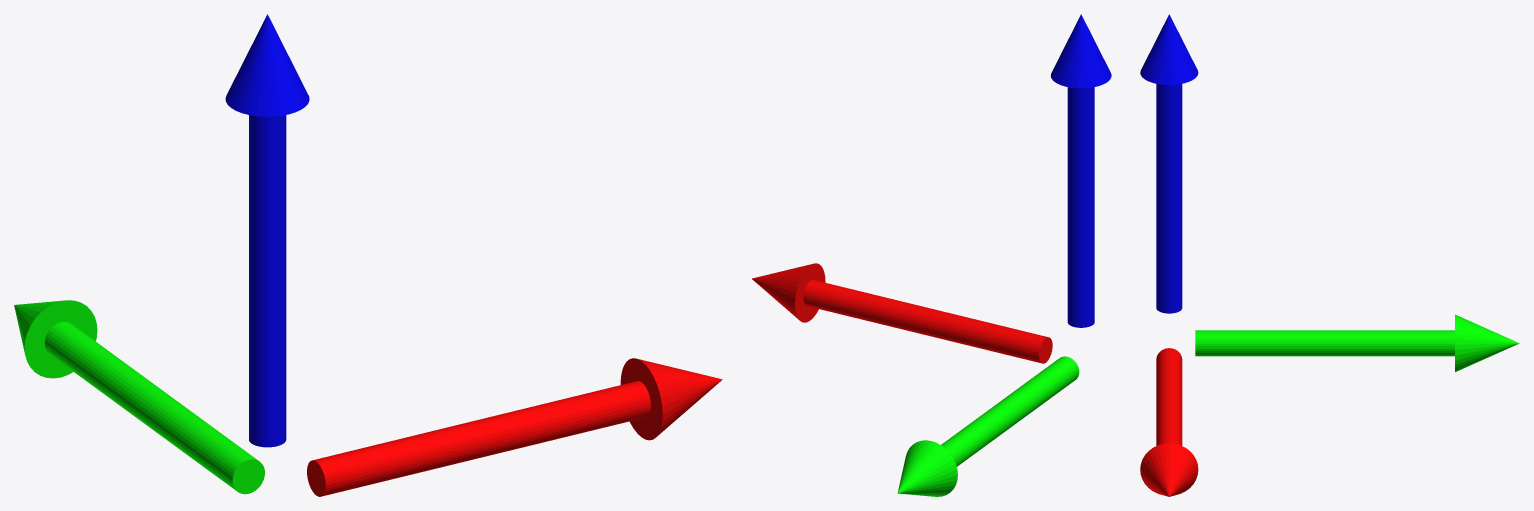
The model's file is PositionGizmo.glb.
3 renders of one model, left to right at view 1: azimuth 30°, elevation 25°; view 2: azimuth 150°, elevation 25°; view 3: azimuth 270°, elevation 25°, orthographic. The views are drawn at different scales.
Visible parts, largest first — view 1: PositionGizmo; view 2: PositionGizmo; view 3: PositionGizmo.
Boxes of the visible parts, box(x1,y1,x2,y2) form: PositionGizmo: box(14, 14, 722, 496); PositionGizmo: box(752, 14, 1111, 496); PositionGizmo: box(1140, 14, 1519, 496).
Size of the model in its own units: 1.1 by 1.1 by 1.06.
